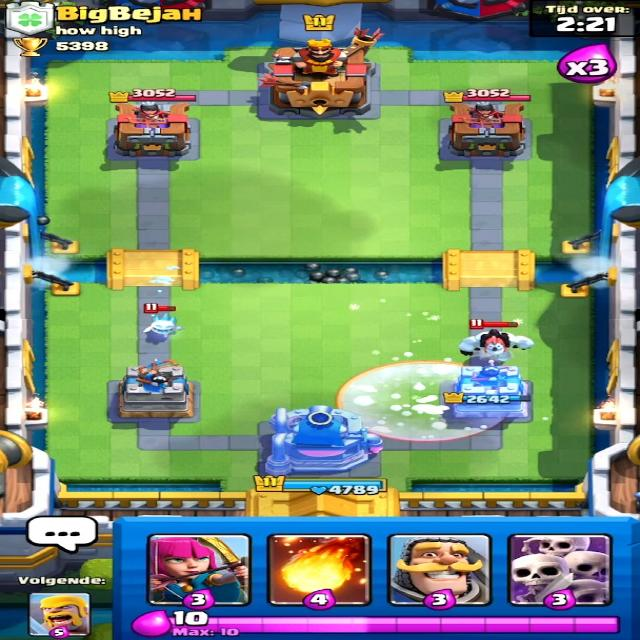Enemy_Ice_Golem_Troop: (458, 325, 530, 358)
Enemy_Ice_Spirit_Troop: (134, 310, 187, 339)
Fireball_Card: (273, 534, 361, 606)
